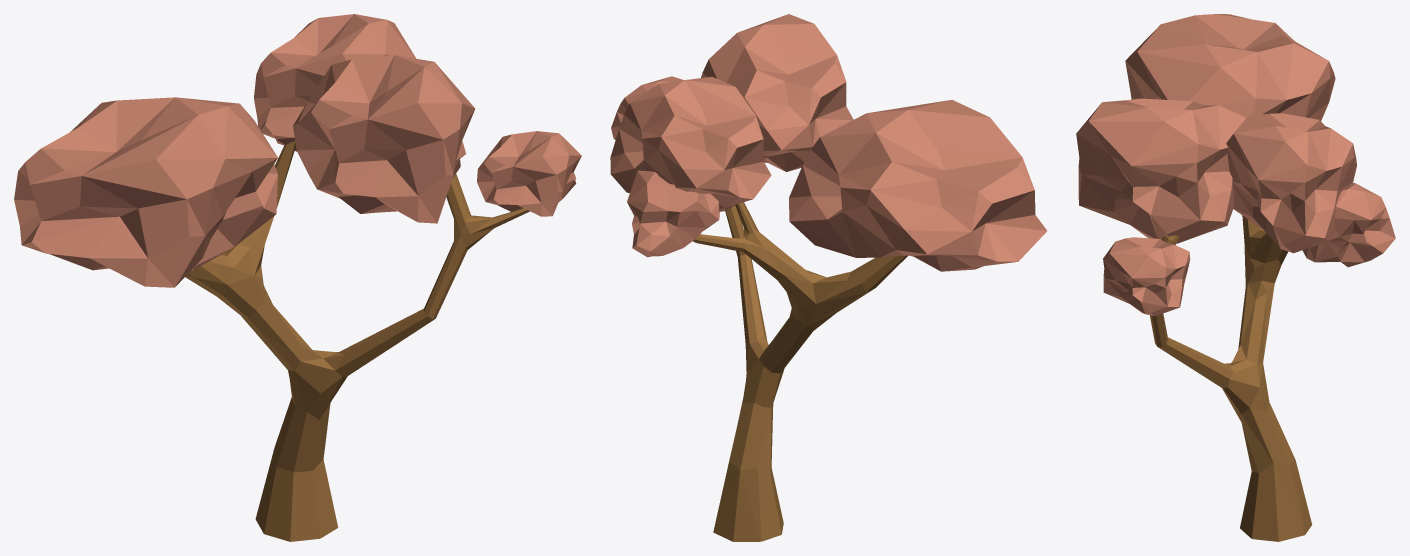
Rendered from Tree.fbx.
3 renders of one model, left to right at view 1: azimuth 30°, elevation 25°; view 2: azimuth 150°, elevation 25°; view 3: azimuth 270°, elevation 25°, orthographic. The views are drawn at different scales.
Parts seen in each view (by area): view 1: Cube.011; view 2: Cube.011; view 3: Cube.011.
Part boxes in pixels (x1=…): Cube.011: x1=14, y1=14, x2=581, y2=541; Cube.011: x1=610, y1=14, x2=1046, y2=541; Cube.011: x1=1076, y1=14, x2=1395, y2=541.
Bounding box in the file's own units: 8.28 × 7.65 × 4.99.
